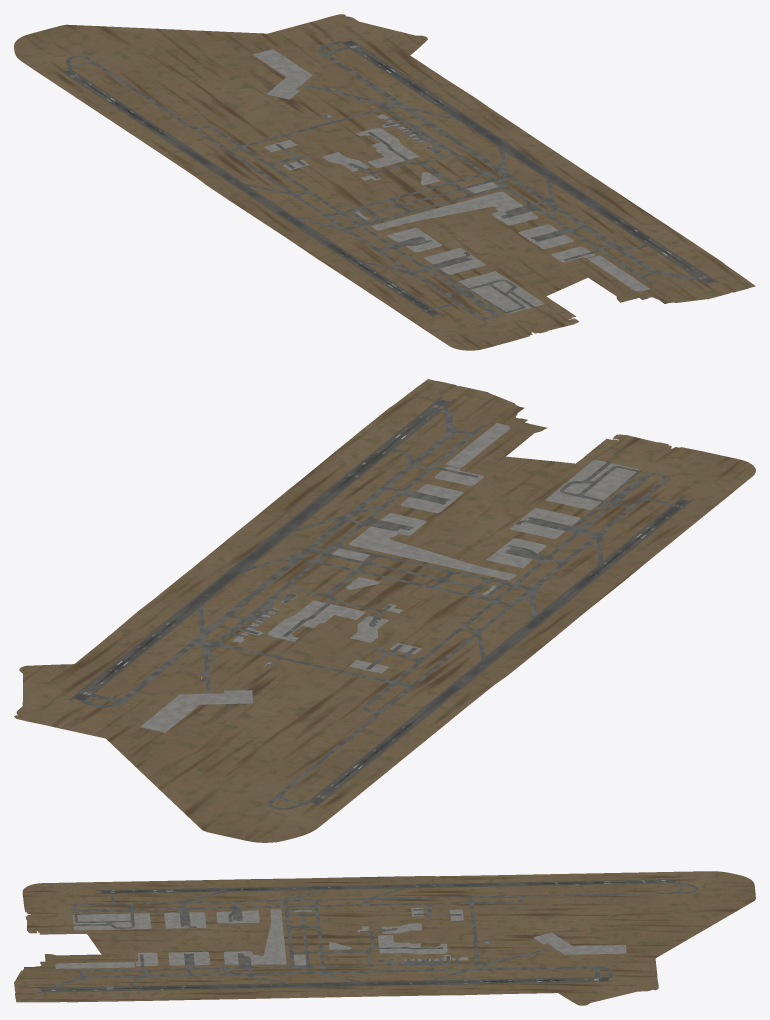
Rendered from scl_placa_campo.leve.glb.
3 renders of one model, top to bottom at view 1: azimuth 30°, elevation 25°; view 2: azimuth 150°, elevation 25°; view 3: azimuth 270°, elevation 25°, orthographic. The views are drawn at different scales.
Parts seen in each view (by area): view 1: scl_placa_campo; view 2: scl_placa_campo; view 3: scl_placa_campo.
Boxes of the visible parts, bbox=[...] form: scl_placa_campo: bbox=[14, 14, 755, 350]; scl_placa_campo: bbox=[14, 379, 755, 842]; scl_placa_campo: bbox=[14, 871, 755, 1005].
Bounding box in the file's own units: 2170 × 0.12 × 5055.
8 materials, 7 textured.
